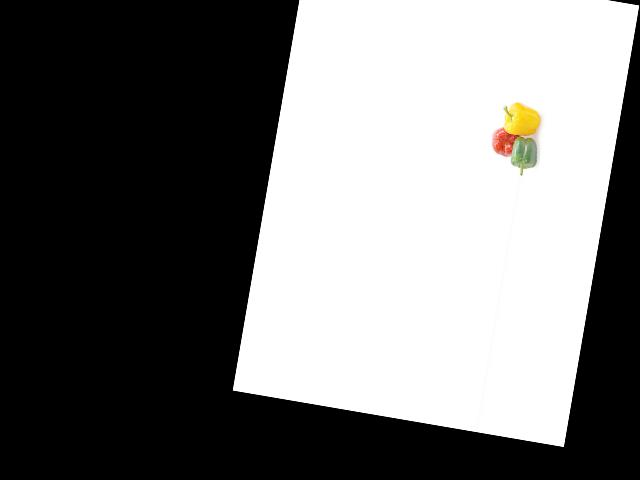bell_pepper: (505, 127, 541, 174)
